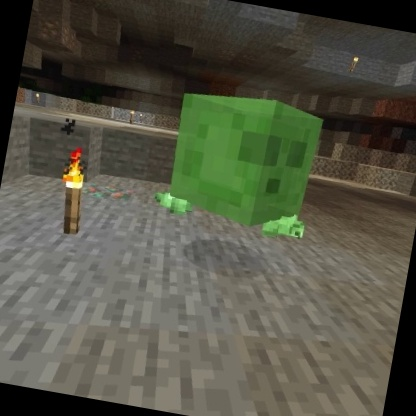slime: (159, 80, 330, 239)
